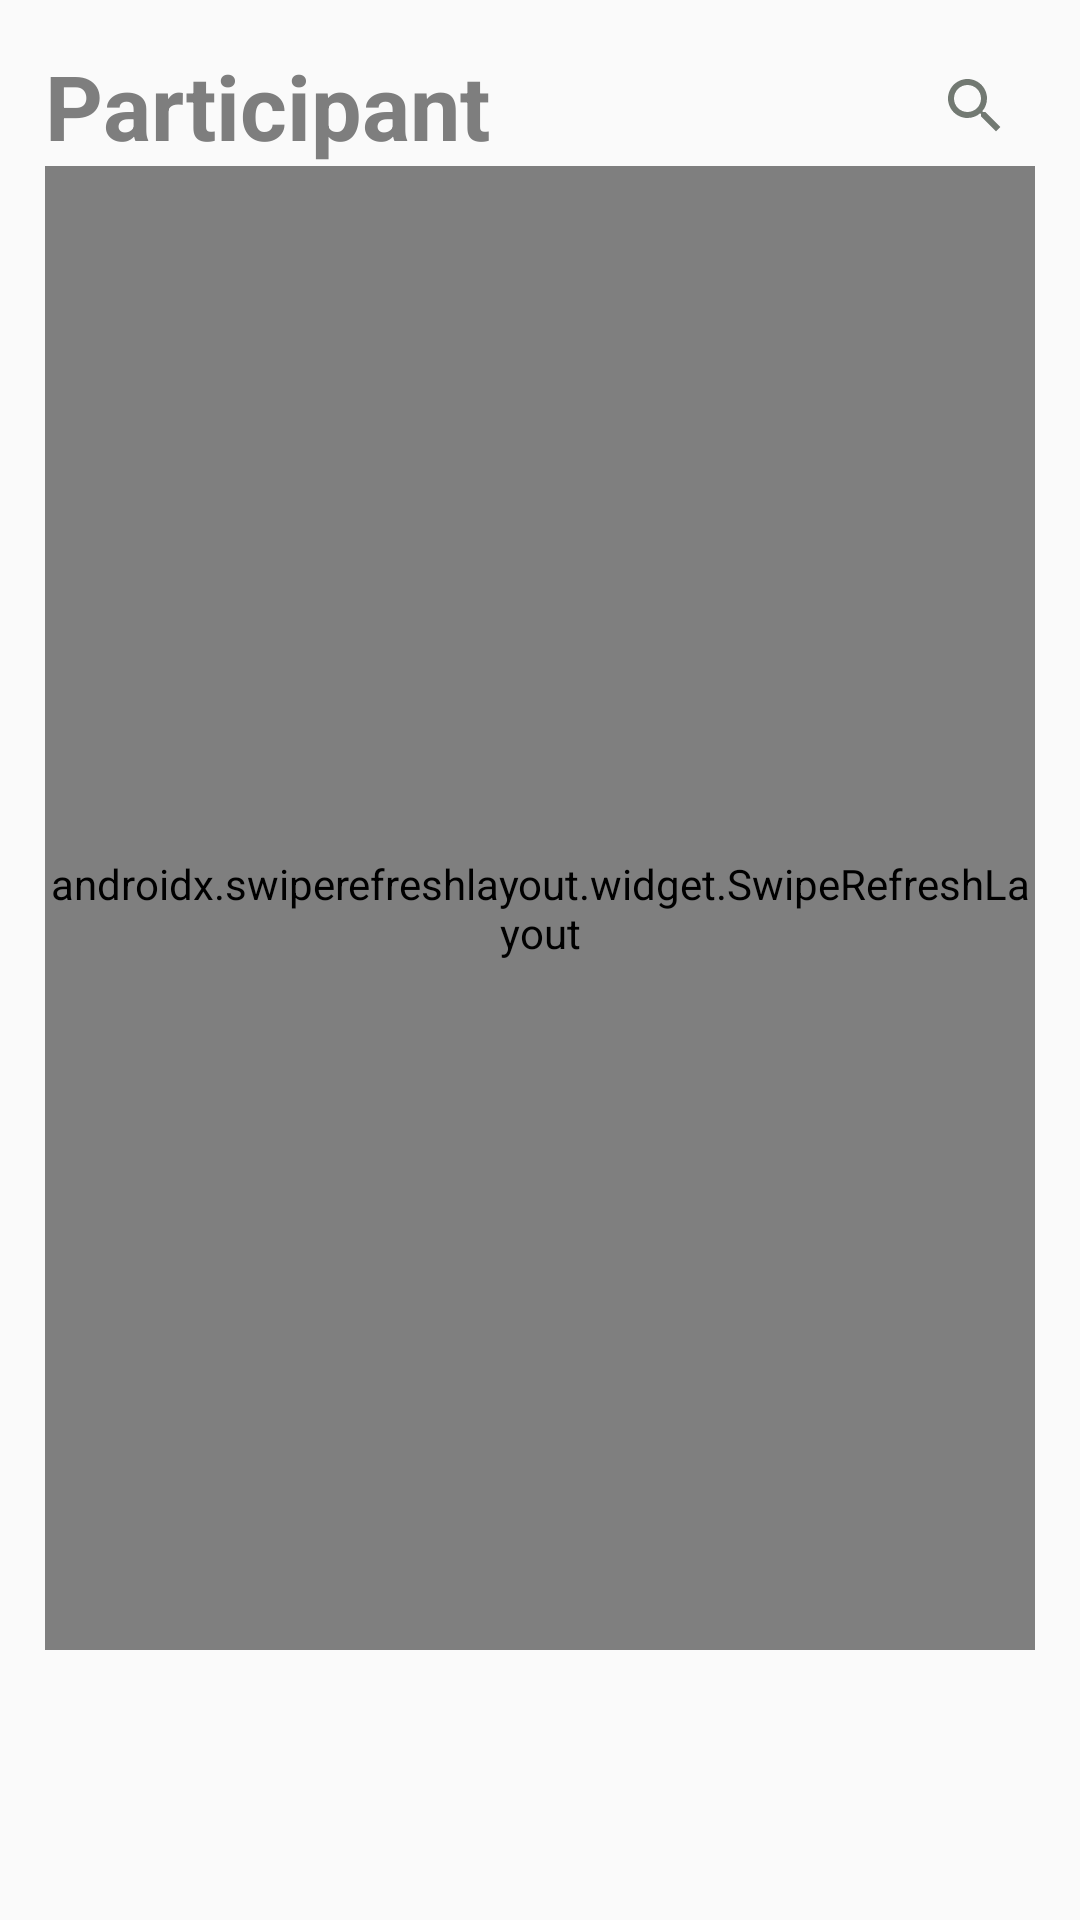

Where to tap for icons on this 1080*1920 app screen, as (x=x, y=y):
search: (x=974, y=105)
